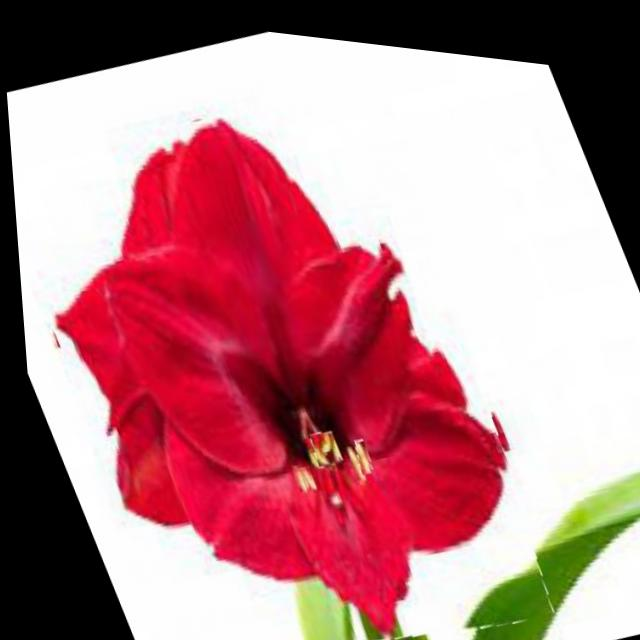Flower: (2, 26, 579, 640), (301, 420, 338, 463), (342, 428, 369, 469), (292, 457, 312, 486)
